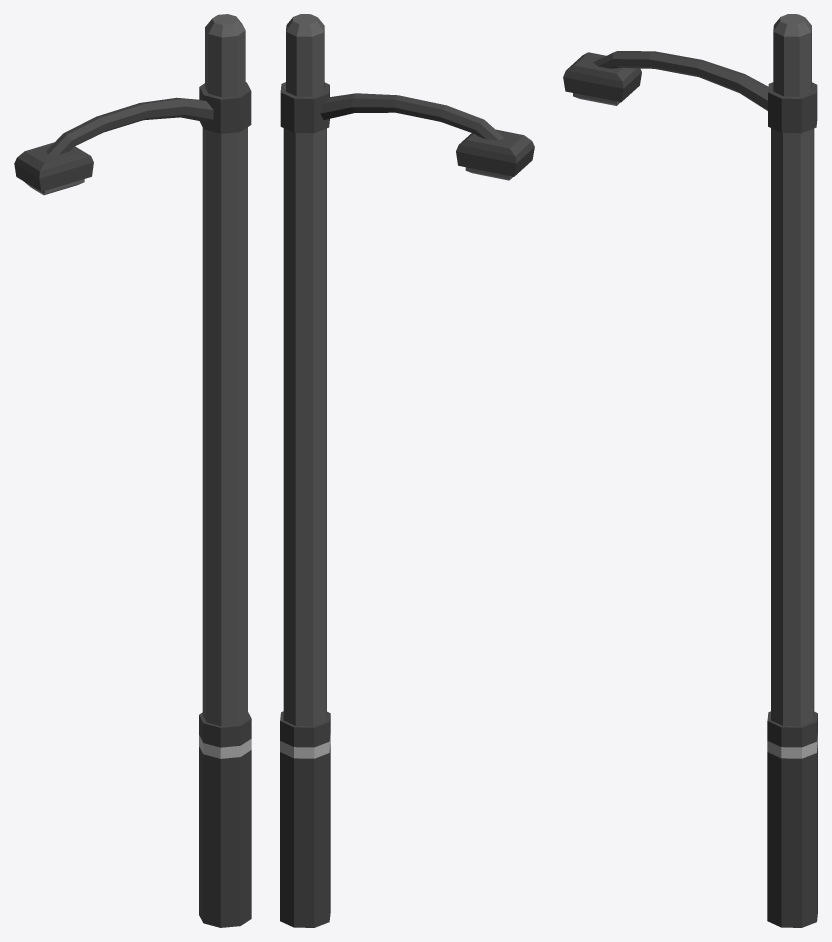
Rendered from StreetLight.fbx.
The picture shows the model from 3 angles, left to right: view 1: azimuth 30°, elevation 25°; view 2: azimuth 150°, elevation 25°; view 3: azimuth 330°, elevation 25°; orthographic projection.
Visible parts, largest first — view 1: StreetLight_LOD0; view 2: StreetLight_LOD0; view 3: StreetLight_LOD0.
Part boxes in pixels (<box>): StreetLight_LOD0: <box>14,14,251,927</box>; StreetLight_LOD0: <box>280,14,534,927</box>; StreetLight_LOD0: <box>563,14,817,927</box>.
Size of what is drawn, in the model's own units: 533 by 1954 by 138.
1 material, 1 textured.
